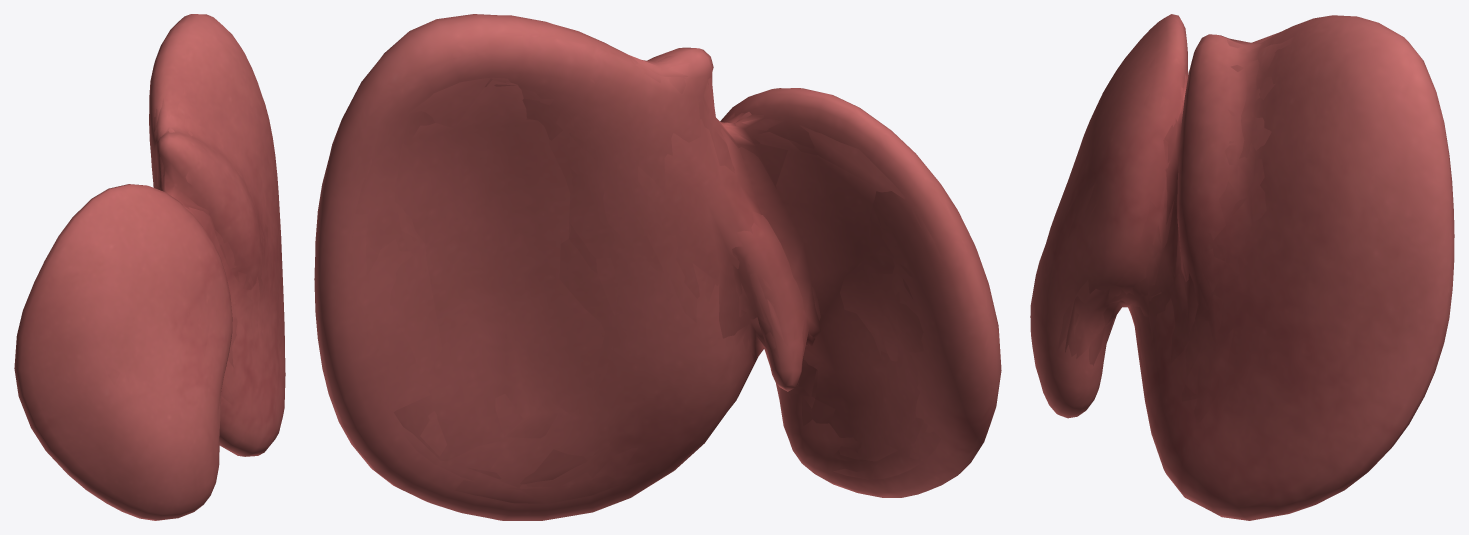
File: Liver.fbx
The picture shows the model from 3 angles, left to right: view 1: azimuth 30°, elevation 25°; view 2: azimuth 150°, elevation 25°; view 3: azimuth 270°, elevation 25°; orthographic projection. The views are drawn at different scales.
Visible parts, largest first — view 1: Liver high, Liver, Liver low; view 2: Liver high, Liver low, Liver; view 3: Liver high, Liver, Liver low.
Part boxes in pixels (x1,y1,x2,y2): Liver high: [14, 14, 285, 520]; Liver: [85, 50, 280, 461]; Liver low: [152, 98, 267, 437]; Liver high: [314, 14, 1001, 520]; Liver low: [365, 52, 923, 484]; Liver: [352, 60, 944, 503]; Liver high: [1030, 14, 1454, 520]; Liver: [1043, 37, 1375, 437]; Liver low: [1065, 31, 1281, 365].
Bounding box in the file's own units: 4.53 × 4.81 × 3.85.
1 material, 1 textured.
